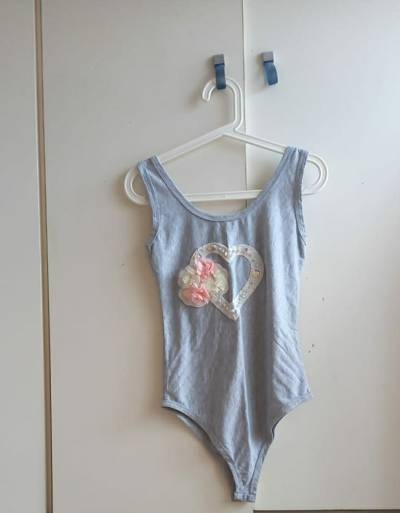Body: (137, 120, 334, 499)
